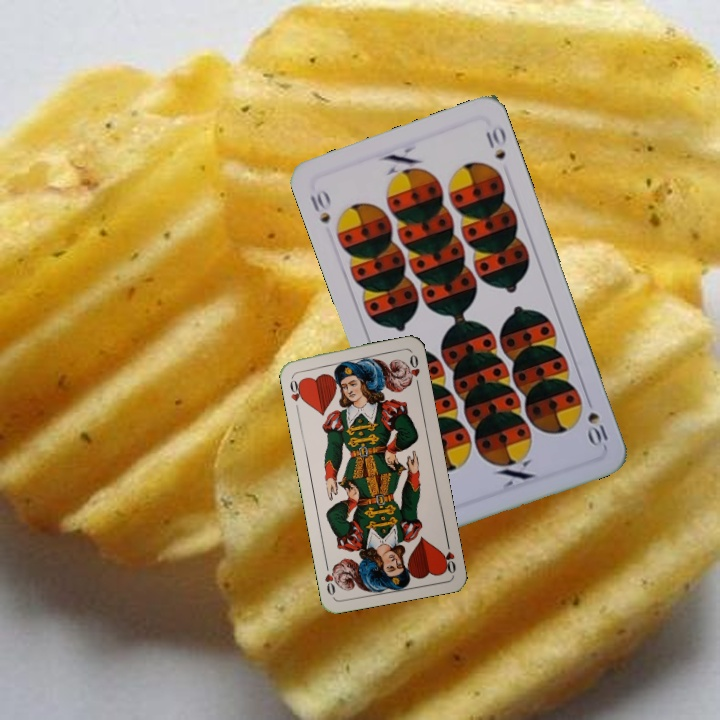HO: (286, 372, 307, 413), (438, 535, 458, 576)
S10: (582, 392, 611, 450), (306, 185, 334, 226)
